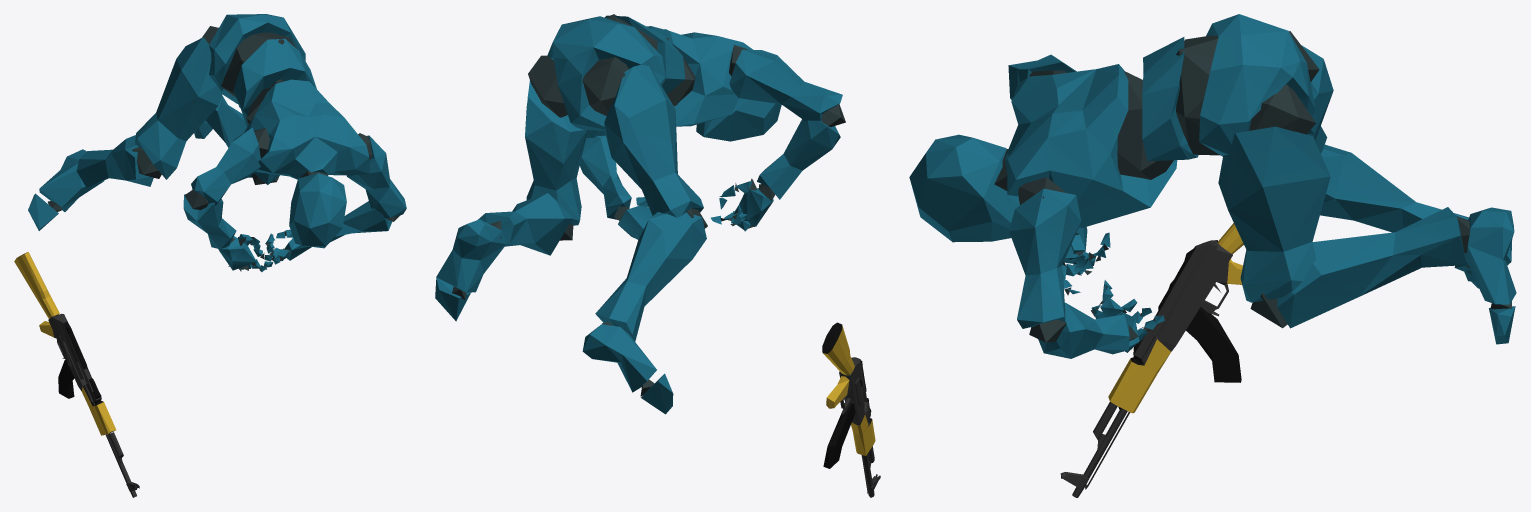
Rendered from EnemyDying_000058.obj.
3 views of the same model, side by side, from view 1: azimuth 30°, elevation 25°; view 2: azimuth 150°, elevation 25°; view 3: azimuth 270°, elevation 25° (orthographic). The views are drawn at different scales.
Parts seen in each view (by area): view 1: Alpha_Surface, AK-47_Cube, Alpha_Joints; view 2: Alpha_Surface, Alpha_Joints, AK-47_Cube; view 3: Alpha_Surface, AK-47_Cube, Alpha_Joints.
Boxes of the visible parts, x1,y1,x2,y2 form: Alpha_Surface: (28, 14, 406, 271); AK-47_Cube: (14, 252, 139, 497); Alpha_Joints: (48, 26, 400, 271); Alpha_Surface: (435, 15, 842, 414); Alpha_Joints: (452, 14, 845, 396); AK-47_Cube: (822, 322, 880, 497); Alpha_Surface: (909, 14, 1516, 358); AK-47_Cube: (1060, 223, 1243, 497); Alpha_Joints: (994, 31, 1511, 346).
Bounding box in the file's own units: 221 × 276 × 254.
